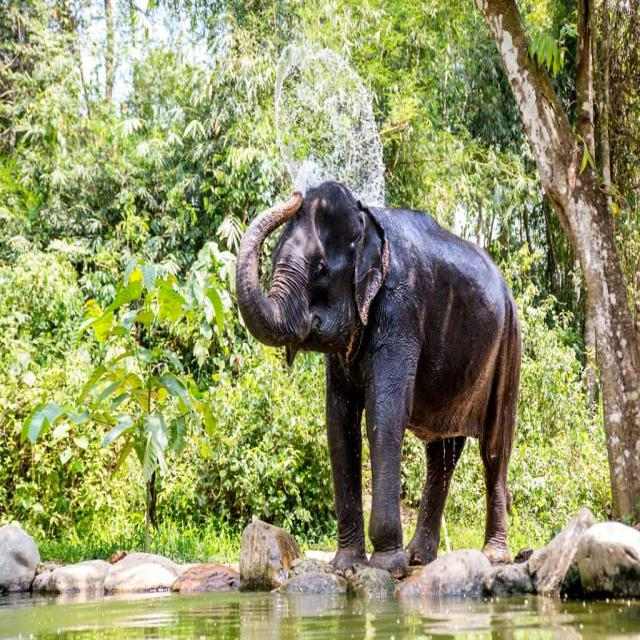Elephant: (239, 173, 527, 565)
